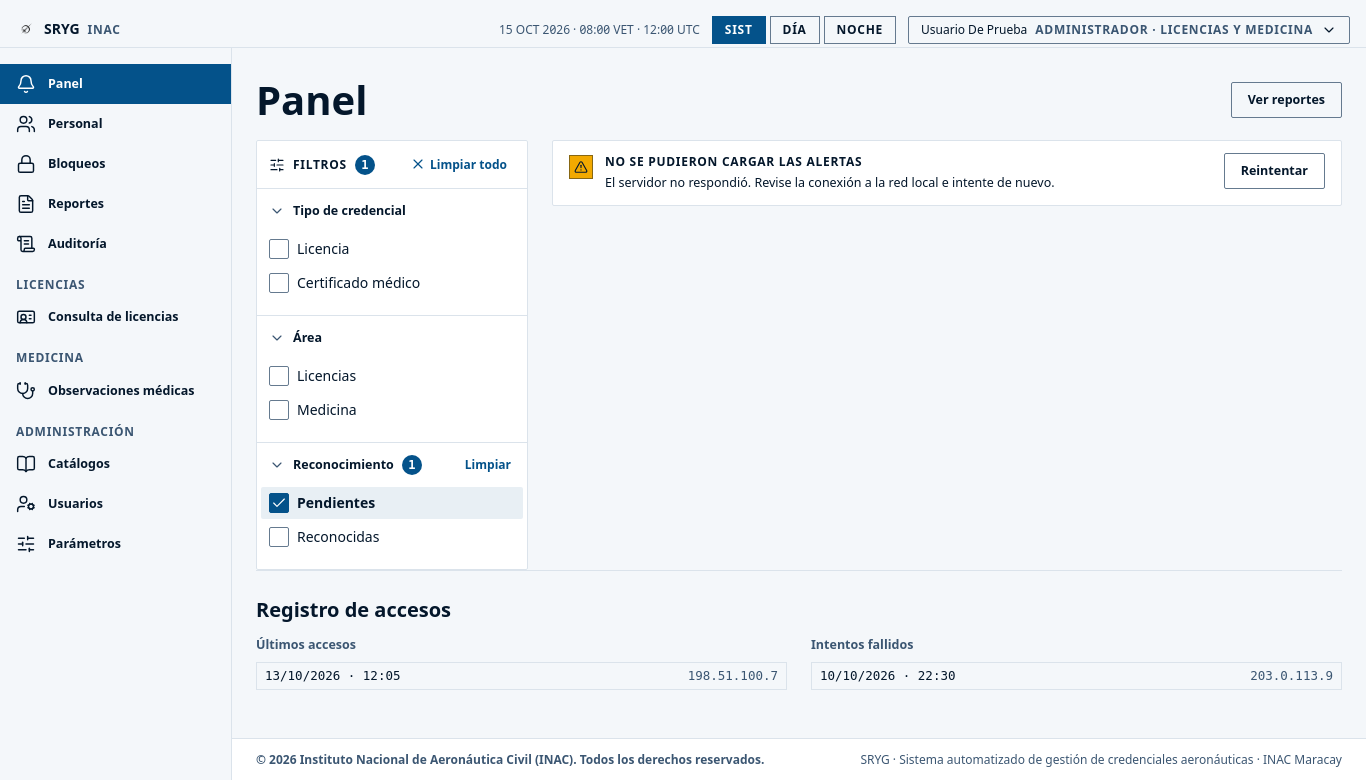
/panel (ALR-03) › shows a load error with a retry that asks again
The image size is (1366, 780).
Expected: the text "No se pudieron cargar las alertas" is shown, [605,153,862,170]
Click the button "Reintentar". click: [1274, 171]
box: [1224,153,1325,189]
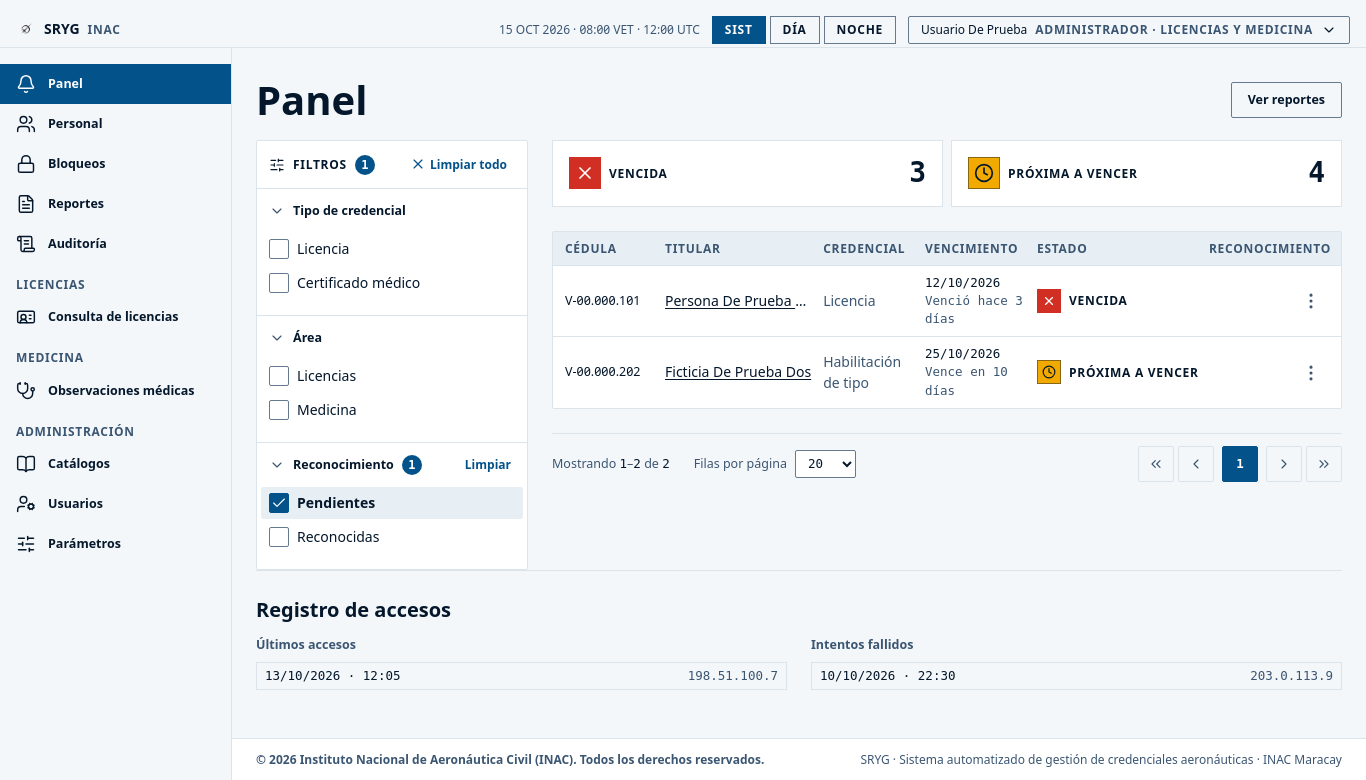
Expected: the list named "Alertas de vencimiento" is shown, [553,266,1341,408]
